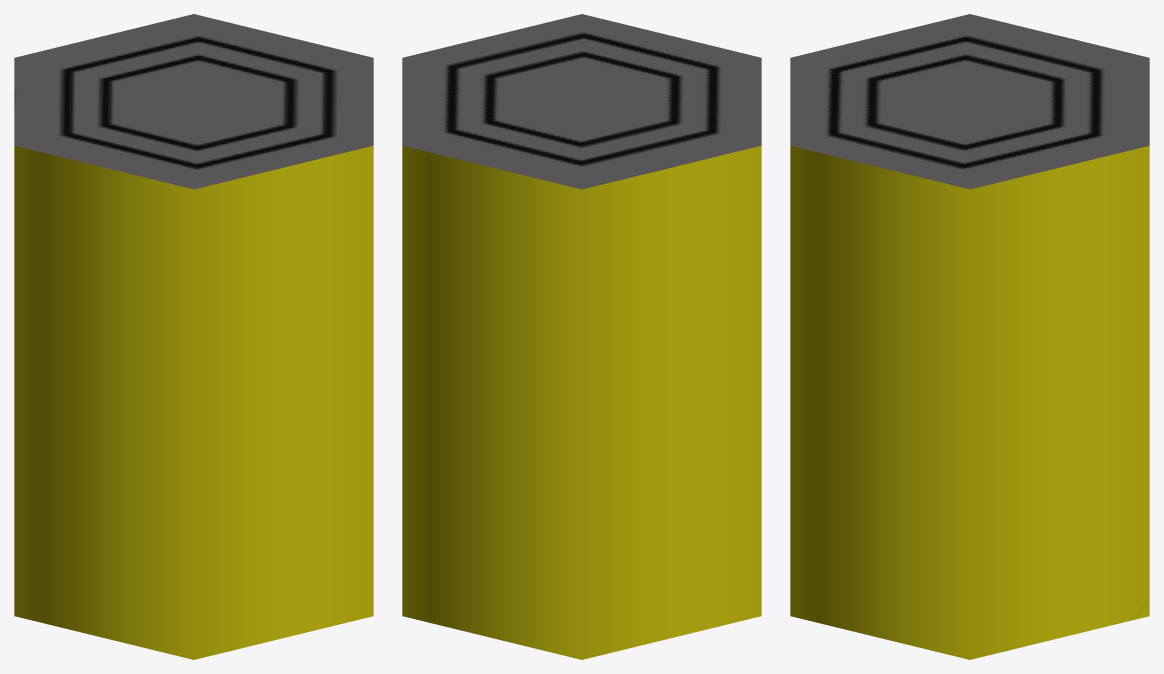
The model's file is Trash_Can03.fbx.
The picture shows the model from 3 angles, left to right: view 1: azimuth 30°, elevation 25°; view 2: azimuth 150°, elevation 25°; view 3: azimuth 270°, elevation 25°; orthographic projection.
Parts seen in each view (by area): view 1: Can02; view 2: Can02; view 3: Can02.
Boxes of the visible parts, <box> form: Can02: <box>14,14,373,659</box>; Can02: <box>402,14,761,659</box>; Can02: <box>790,14,1149,659</box>.
Size of the model in its own units: 1.6 by 2 by 1.39.
